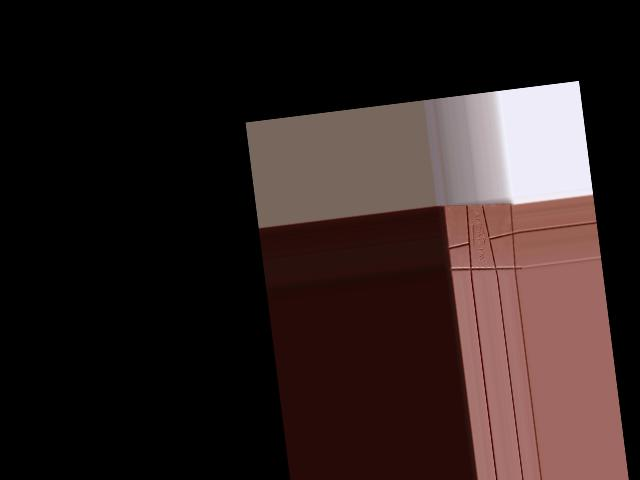chocolate: (439, 195, 522, 282)
